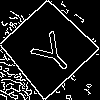Y: (22, 23, 79, 79)
